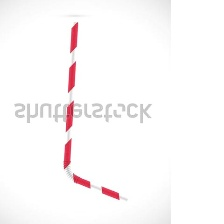drinking_straw: (57, 15, 133, 209)
